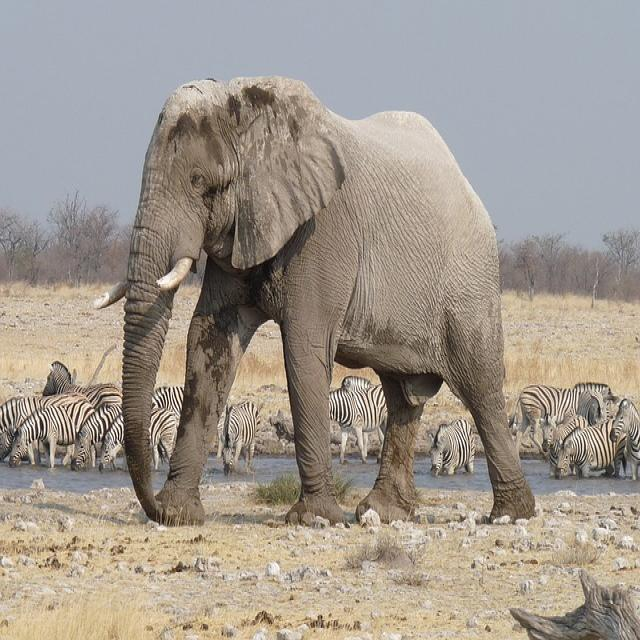elephant: (94, 76, 536, 529)
